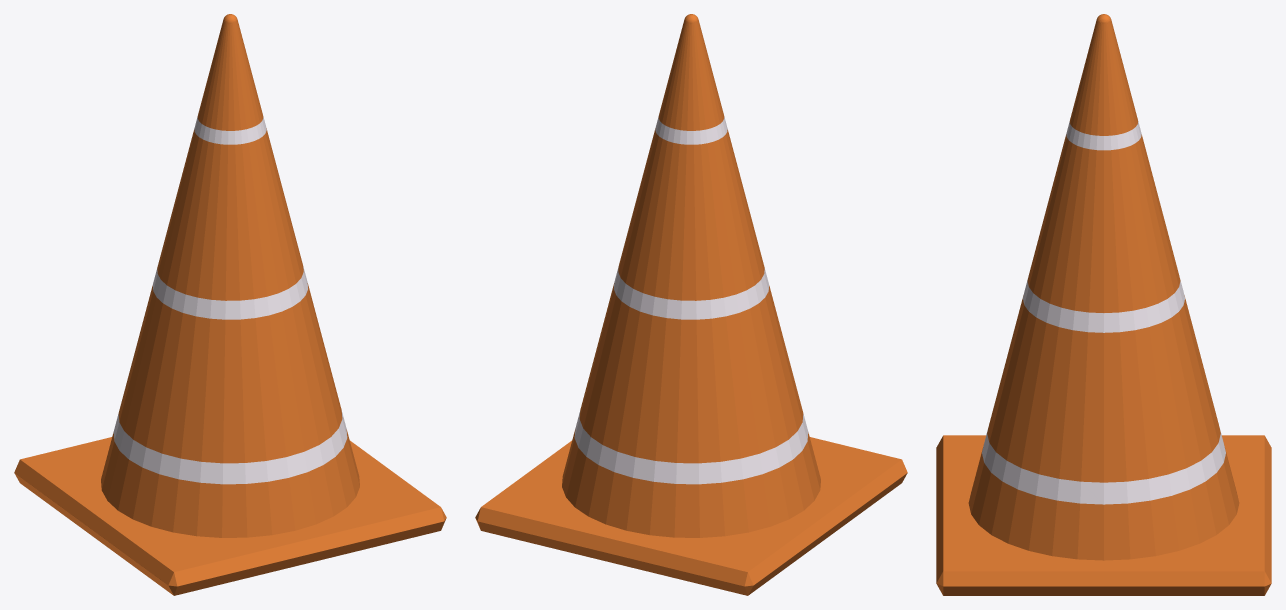
File: Roadcone.glb
The picture shows the model from 3 angles, left to right: view 1: azimuth 30°, elevation 25°; view 2: azimuth 150°, elevation 25°; view 3: azimuth 270°, elevation 25°; orthographic projection. The views are drawn at different scales.
Parts seen in each view (by area): view 1: Cylinder; view 2: Cylinder; view 3: Cylinder.
Boxes of the visible parts, left/top/right/bottom form: Cylinder: left=14, top=14, right=446, bottom=595; Cylinder: left=475, top=14, right=907, bottom=595; Cylinder: left=936, top=14, right=1271, bottom=595.
Size of the model in its own units: 2.43 by 4.11 by 2.43.
